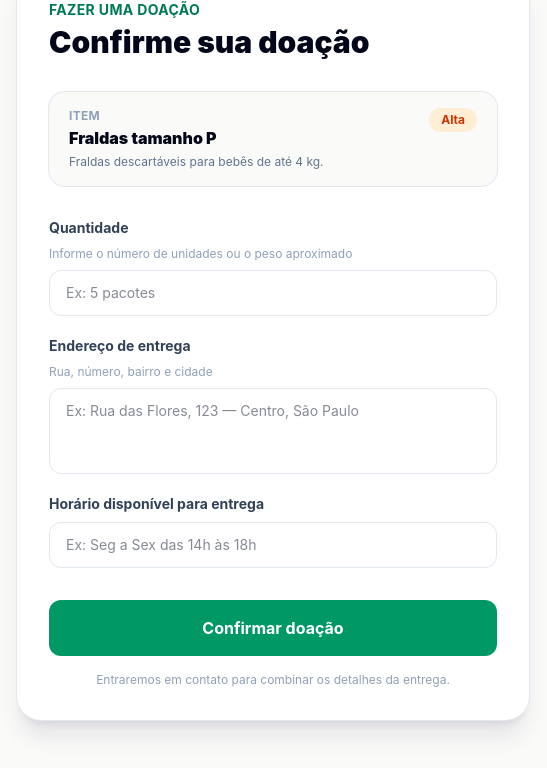
Test: DoarPage › Validação do formulário › exibe alerta ao submeter com todos os campos vazios
This screenshot has width=547, height=768.
(page scrolled)
Click the button "Confirmar doação".
click(273, 628)  # box [49,600,497,656]
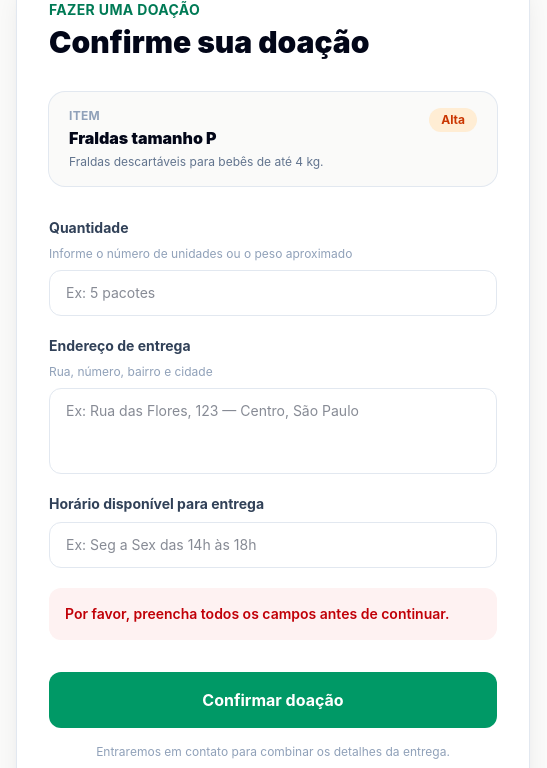
Expected: the message "Por favor, preencha todos os campos antes de continuar." is shown, [49,588,497,640]
